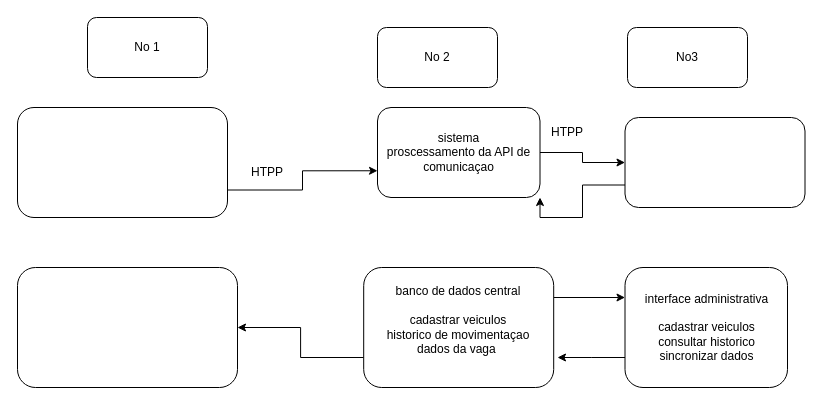
This 823x405 diagram has some shape labels left out. Here are the shapes that lost their labels. From the top down, the box of each, then its label:
(16, 106, 228, 218): sistema de guarita regsitra a entrada de veiculo regsitra a saída do veiculo
(624, 116, 805, 208): navegador web acesso a intterface pela web
(16, 266, 238, 388): conexao com o servidor envio e recebimento de dados sincronizaçao pela internet
